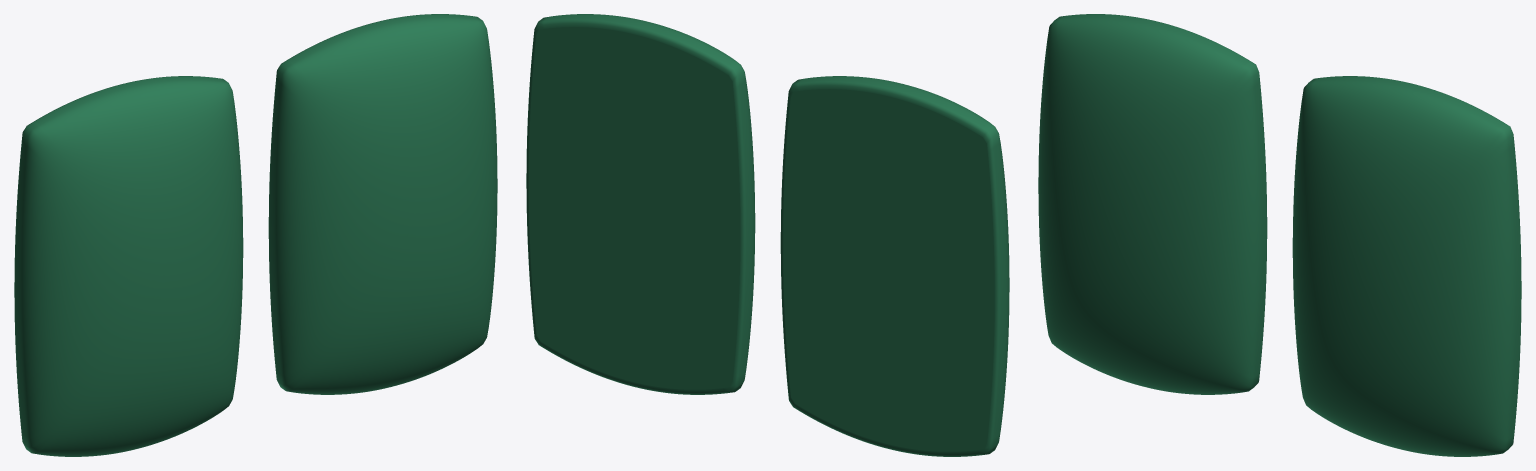
Rendered from matched-pair-v1.glb.
3 views of the same model, side by side, from view 1: azimuth 30°, elevation 25°; view 2: azimuth 150°, elevation 25°; view 3: azimuth 330°, elevation 25° (orthographic).
Visible parts, largest first — view 1: Barrel Cabochon 22x14x4mm.001, Barrel Cabochon 22x14x4mm; view 2: Barrel Cabochon 22x14x4mm, Barrel Cabochon 22x14x4mm.001; view 3: Barrel Cabochon 22x14x4mm.001, Barrel Cabochon 22x14x4mm.
Part boxes in pixels (<box>): Barrel Cabochon 22x14x4mm.001: <box>268,14,497,394</box>; Barrel Cabochon 22x14x4mm: <box>14,76,243,456</box>; Barrel Cabochon 22x14x4mm: <box>780,76,1009,456</box>; Barrel Cabochon 22x14x4mm.001: <box>526,14,755,394</box>; Barrel Cabochon 22x14x4mm.001: <box>1292,76,1521,456</box>; Barrel Cabochon 22x14x4mm: <box>1038,14,1267,394</box>.
Bounding box in the file's own units: 0.0302 × 0.022 × 0.00398.
